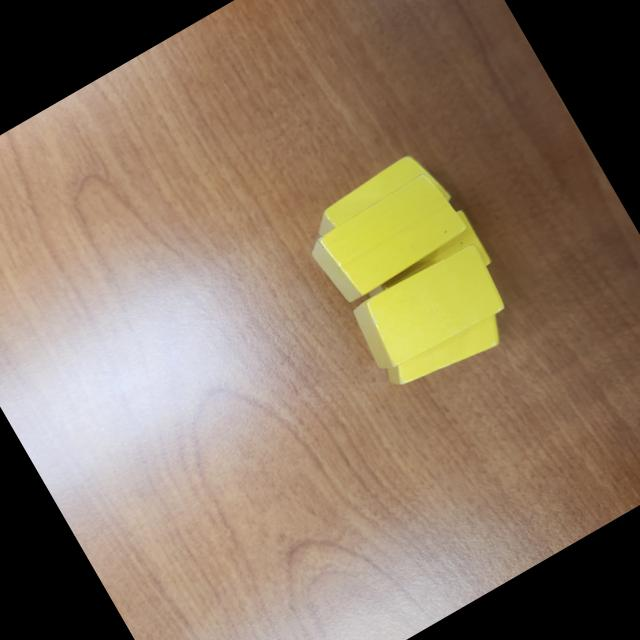yellow: (303, 166, 474, 310), (344, 240, 510, 380), (304, 144, 458, 270), (353, 206, 496, 325), (382, 306, 512, 403)
